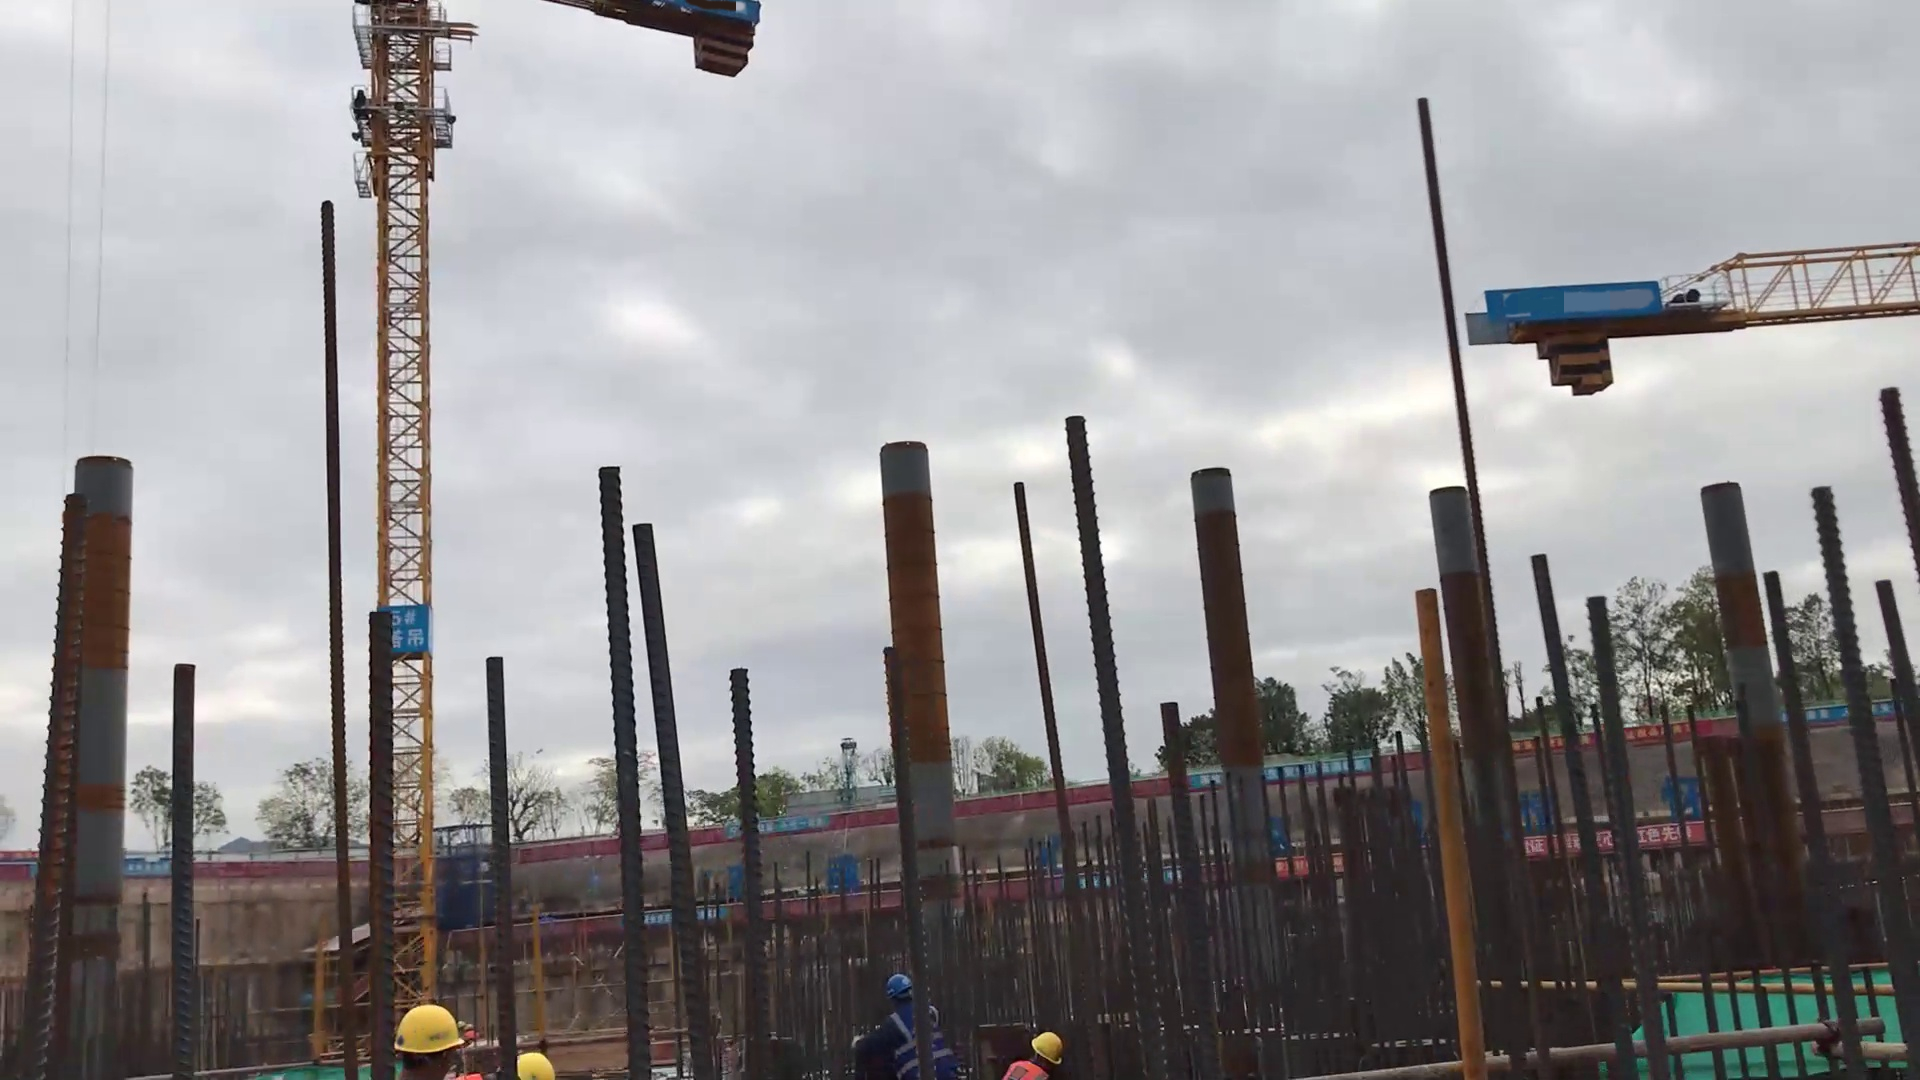fence: (197, 833, 339, 897), (517, 833, 624, 874), (956, 787, 1061, 826), (832, 801, 900, 833), (1069, 771, 1110, 810)
helmet: (389, 991, 466, 1058), (506, 1045, 558, 1080), (1028, 1031, 1067, 1068), (885, 969, 923, 1001)
person: (855, 951, 960, 1080), (374, 969, 472, 1080), (1004, 1012, 1073, 1080)
slogan: (389, 606, 435, 657), (757, 815, 841, 835)
